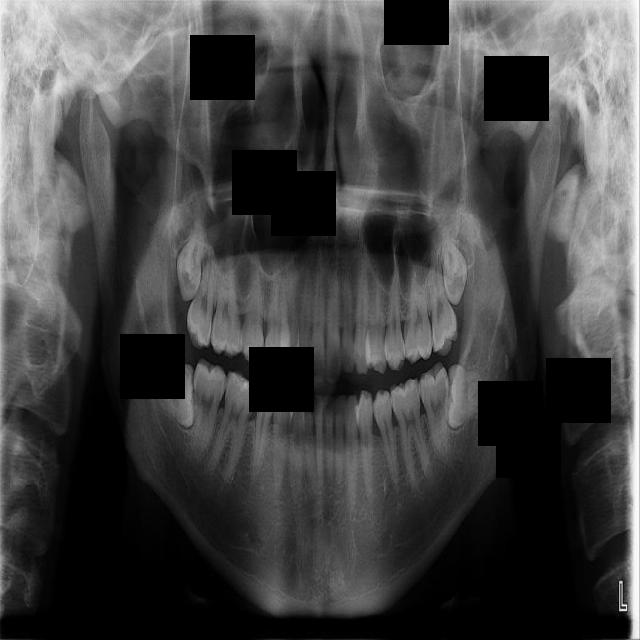3M ESPE Implant: (174, 214, 205, 302)
BioHorizons Implant: (429, 265, 459, 357)
BioLife Implant: (441, 236, 468, 304)
Biomet 3i Implant: (444, 363, 486, 431)
Blue Sky Bio Implant: (416, 361, 456, 458)
Caries: (185, 247, 216, 349)
Implant: (183, 360, 229, 462)
Keystone Dental Implant: (155, 362, 196, 431)
